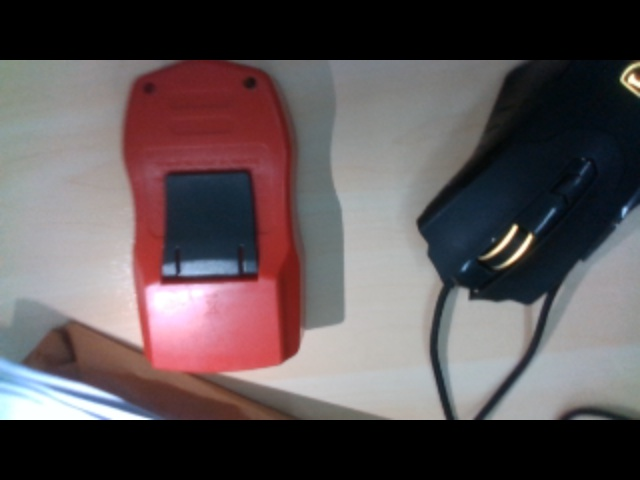Multimeter: (121, 58, 304, 376)
Screw holes: (242, 74, 259, 93), (140, 81, 156, 95)
